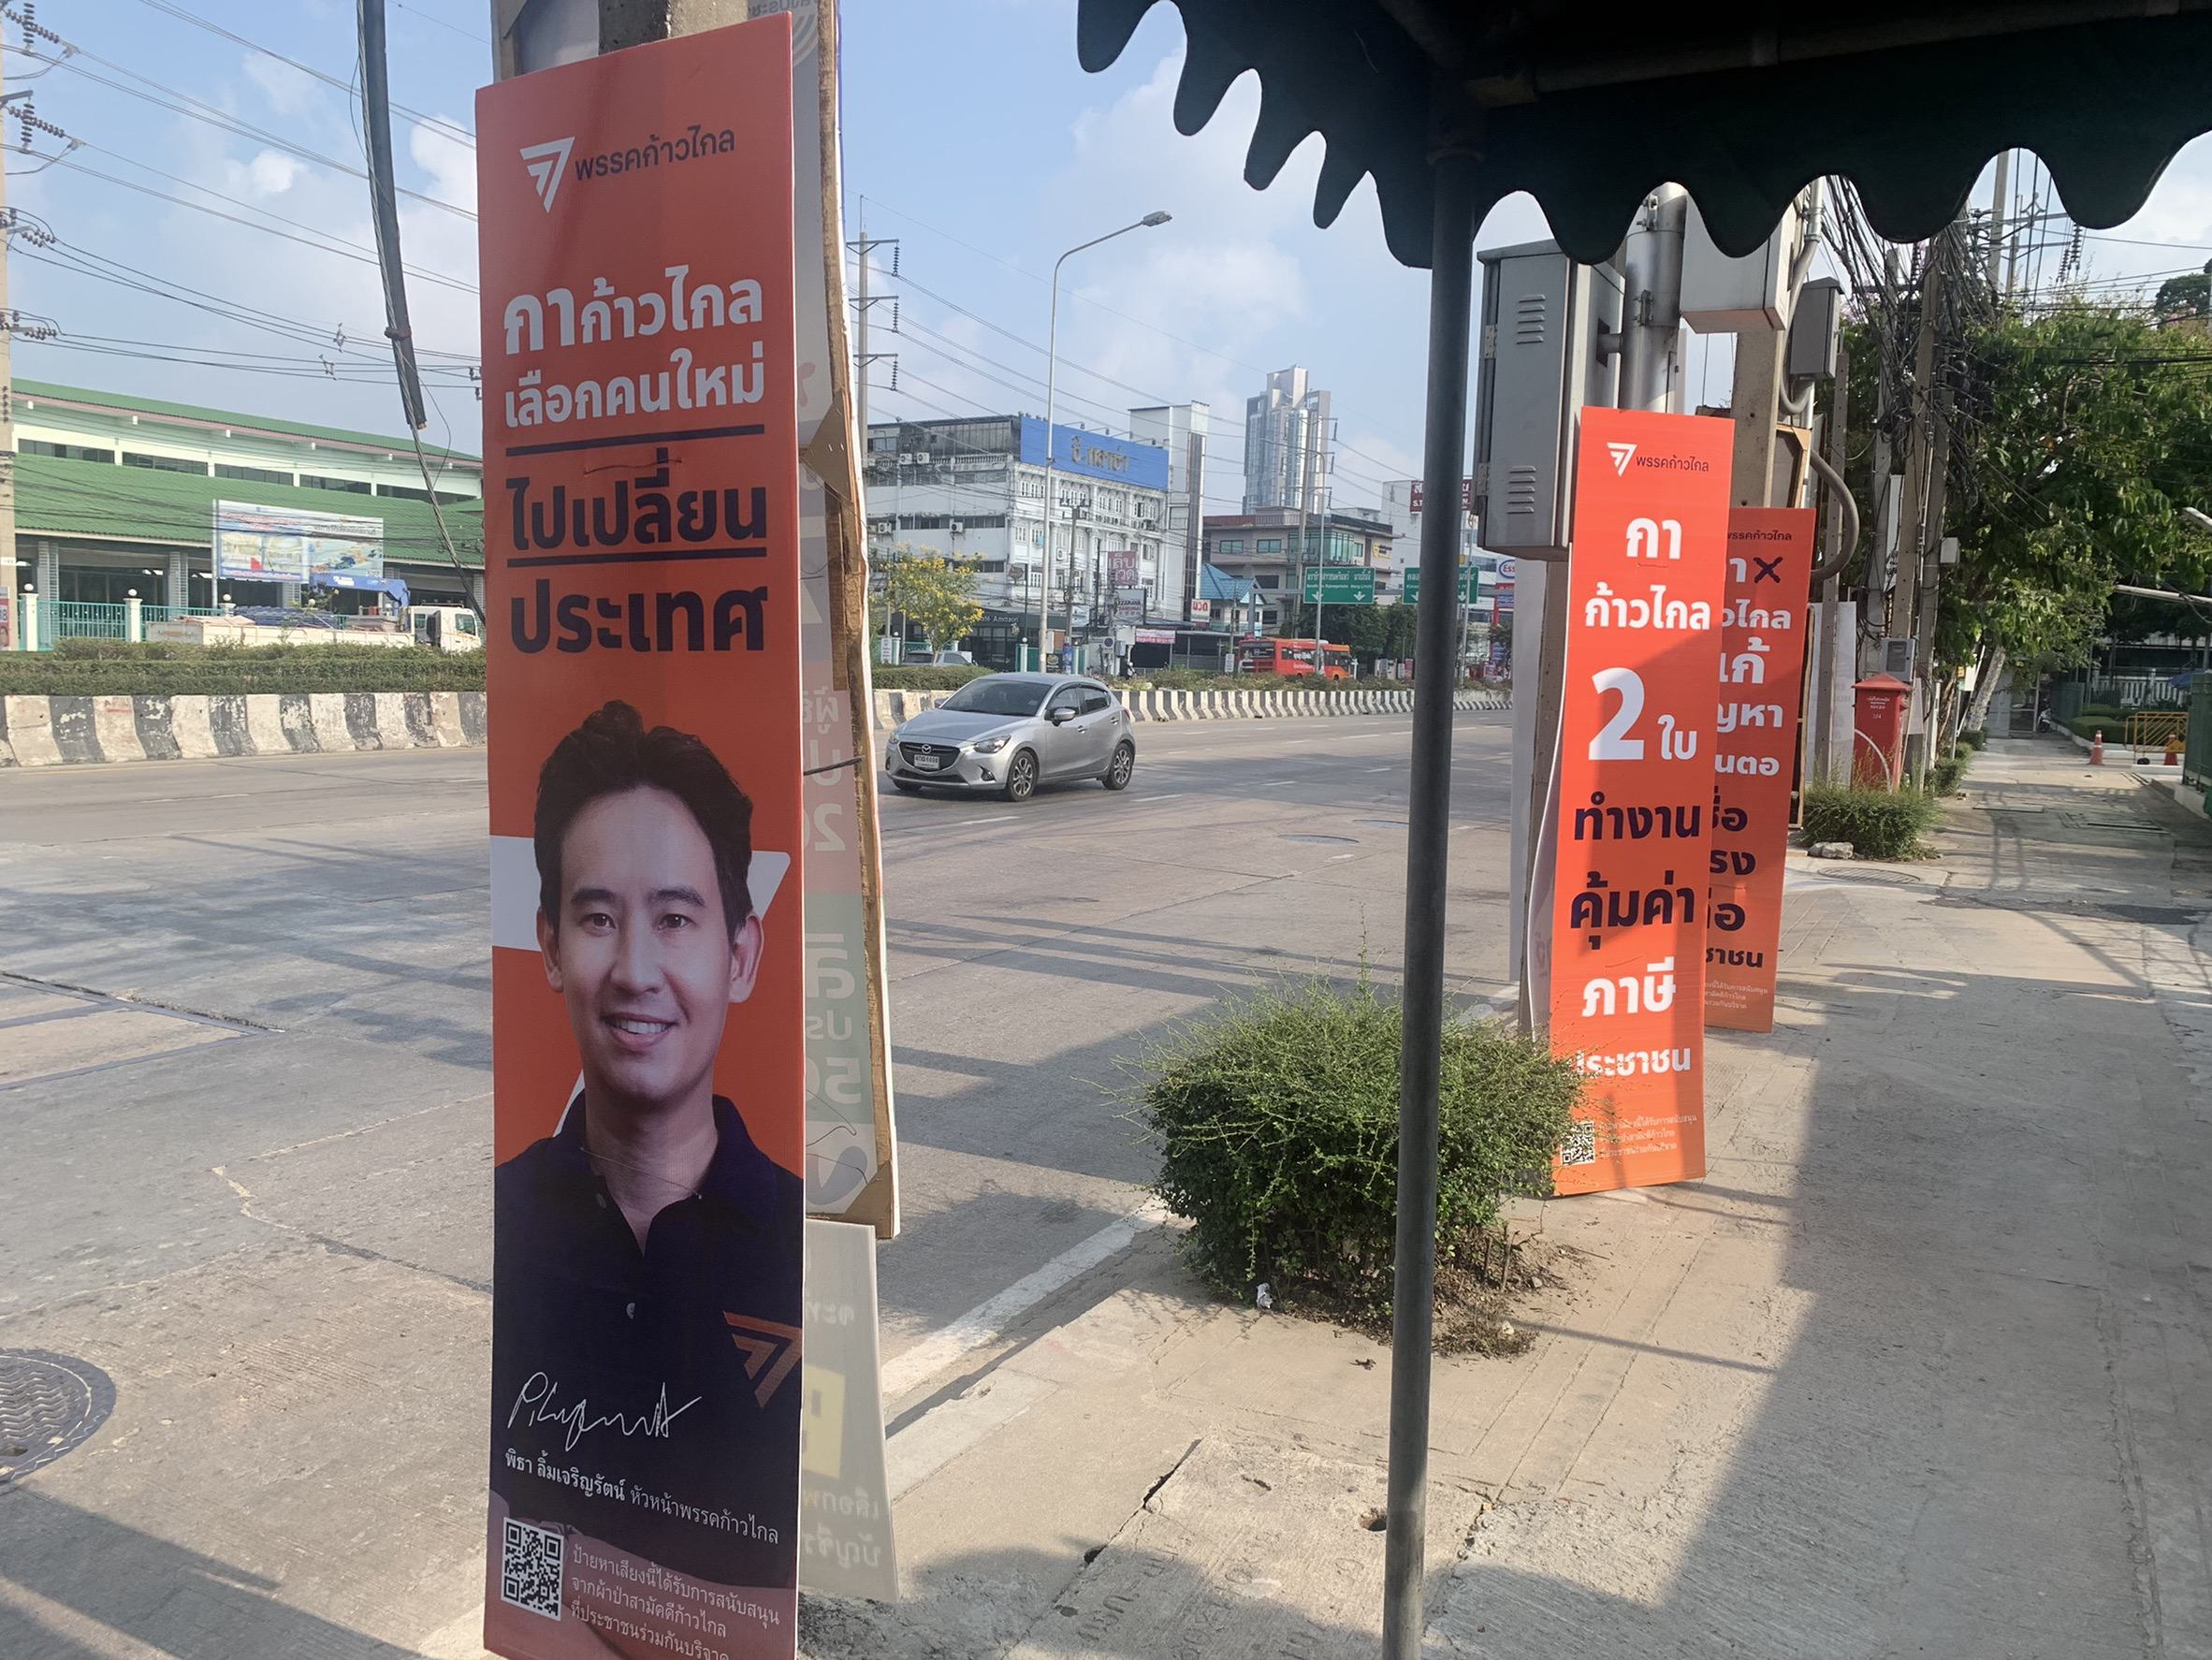Banner: (453, 87, 802, 1660), (1553, 394, 1708, 1189), (1705, 507, 1834, 1034)
